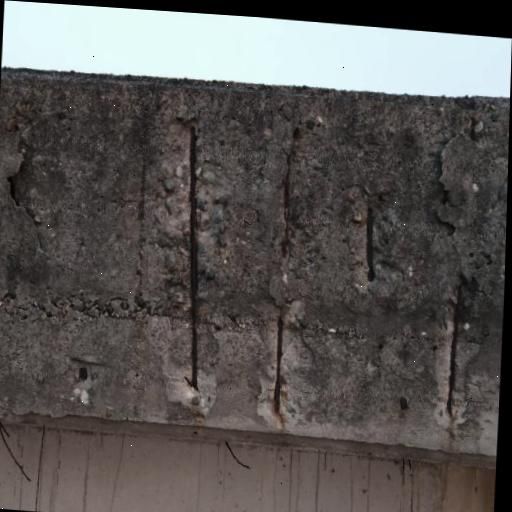exposed_rebar: (189, 126, 199, 390), (447, 286, 461, 415), (282, 150, 291, 256), (274, 318, 283, 413), (366, 207, 375, 281)
